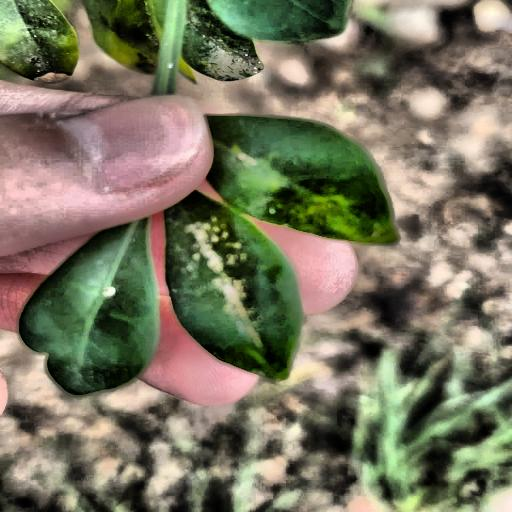la dom: (116, 182, 302, 394), (164, 10, 289, 85)
